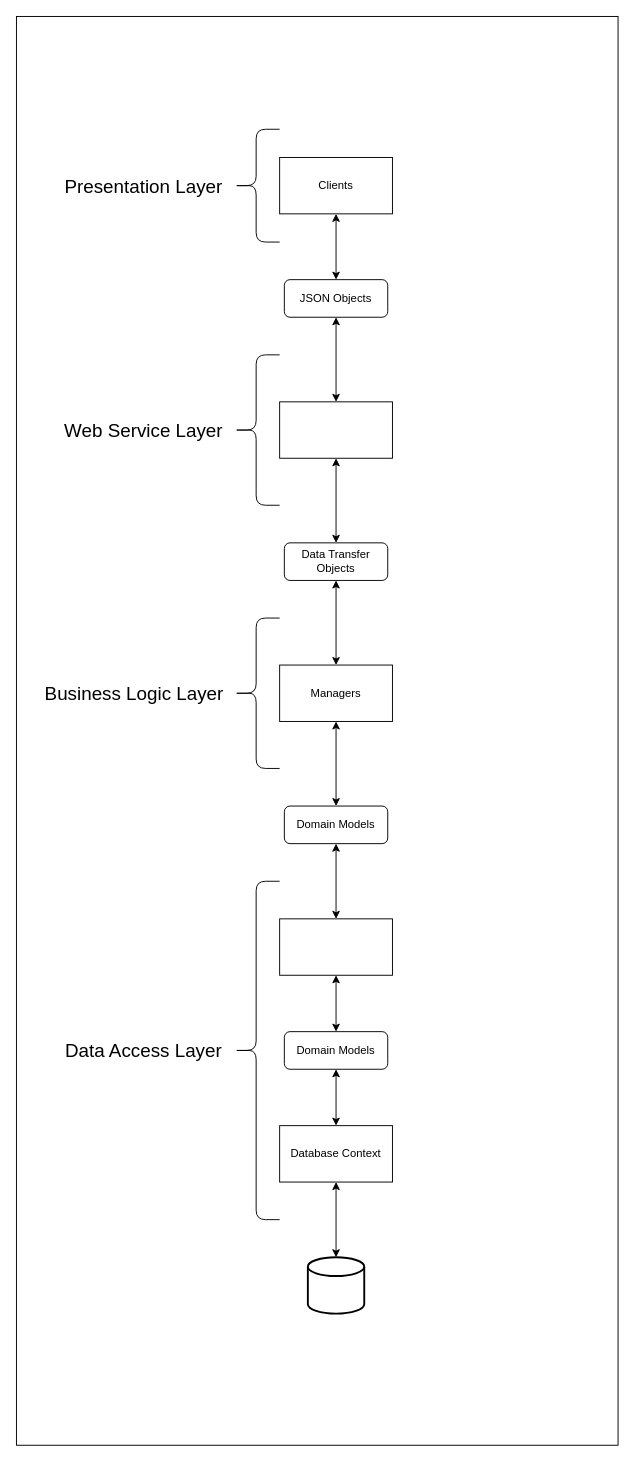
The diagram is 635 pixels wide and 1462 high, and some of its shapes have lost their labels. Here are the shapes that lost their labels. From the top down, the box of each, then its label:
(279, 401, 392, 458): Controllers
(279, 918, 392, 975): Repositories
(306, 1256, 365, 1314): Postgres
